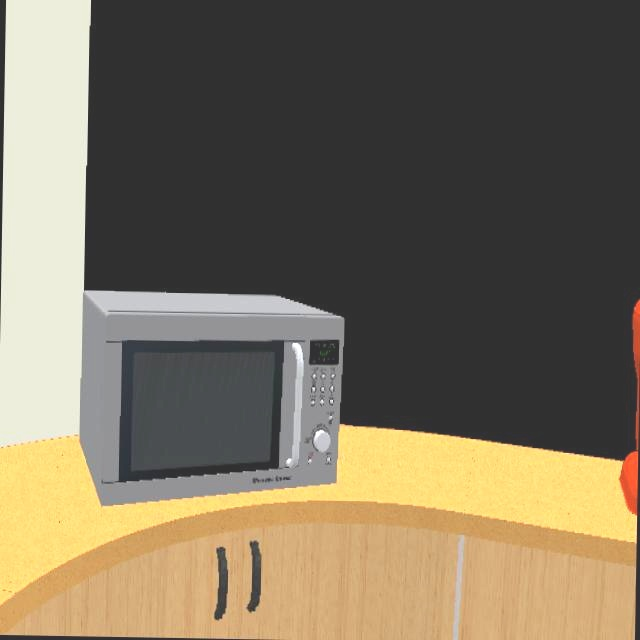countertop: (0, 426, 637, 635)
microwave: (78, 290, 346, 506)
